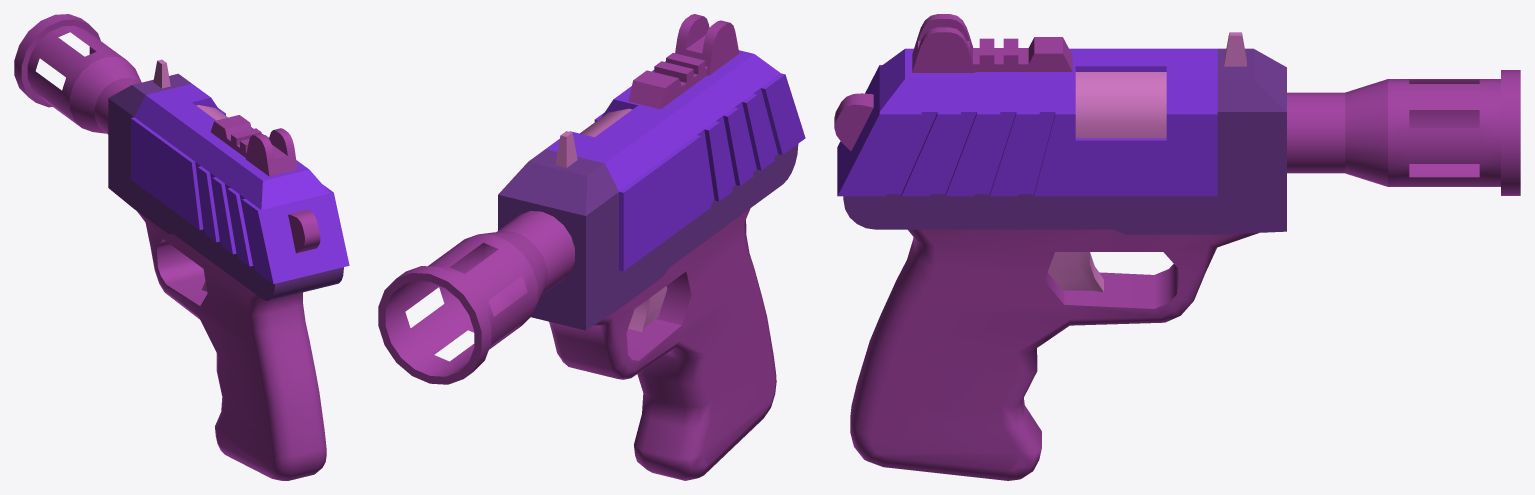
Rendered from SM_Toy_Pistol.fbx.
3 renders of one model, left to right at view 1: azimuth 30°, elevation 25°; view 2: azimuth 150°, elevation 25°; view 3: azimuth 270°, elevation 25°, orthographic. The views are drawn at different scales.
Parts seen in each view (by area): view 1: SM_Toy_Pistol; view 2: SM_Toy_Pistol; view 3: SM_Toy_Pistol.
Part boxes in pixels (x1,y1,x2,y2): SM_Toy_Pistol: [14, 14, 349, 480]; SM_Toy_Pistol: [378, 14, 805, 480]; SM_Toy_Pistol: [834, 14, 1520, 480].
Bounding box in the file's own units: 41.75 × 166 × 230.
